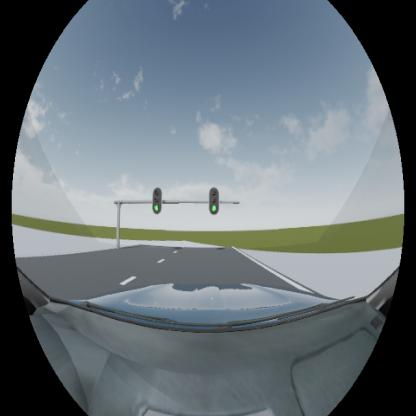Green Light: (152, 186, 162, 214), (209, 187, 219, 215)
